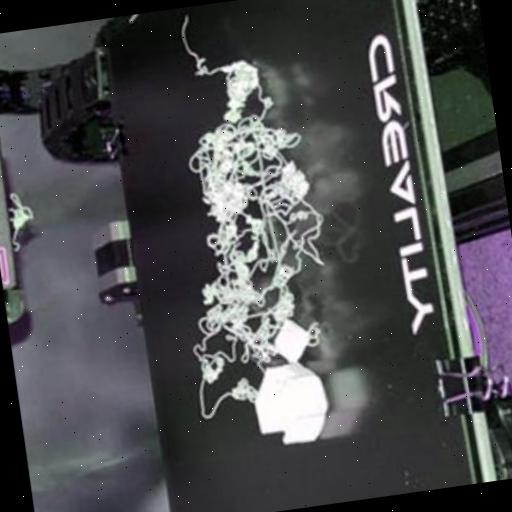spaghetti: (147, 47, 347, 420), (0, 188, 36, 250), (175, 12, 208, 78)
